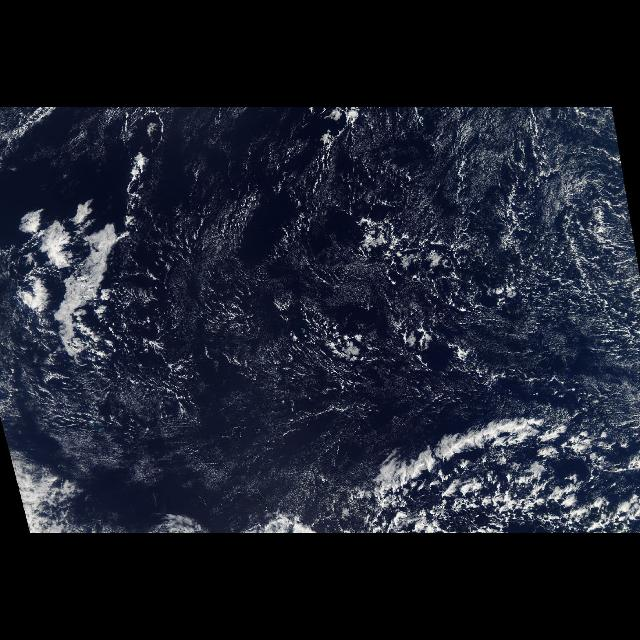Fish: (352, 413, 620, 489), (62, 196, 130, 386)
Gravel: (283, 208, 492, 386), (401, 437, 634, 525), (65, 264, 192, 408)
Sugar: (175, 115, 630, 388), (81, 408, 345, 502)
